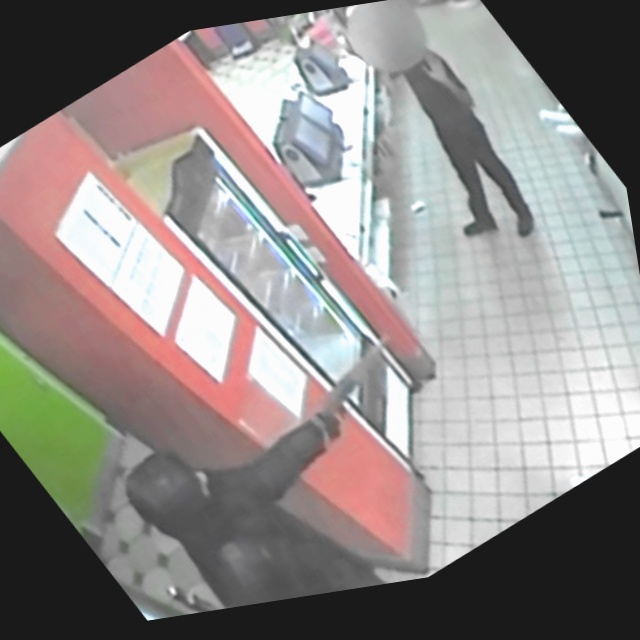gun: (270, 307, 456, 464)
